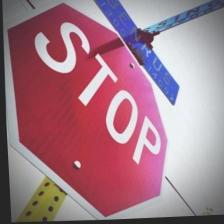Stop: (0, 0, 174, 223)
